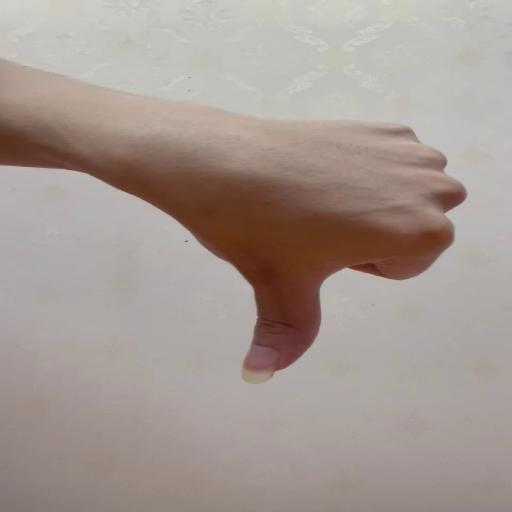thumbs_down: (156, 118, 464, 386)
